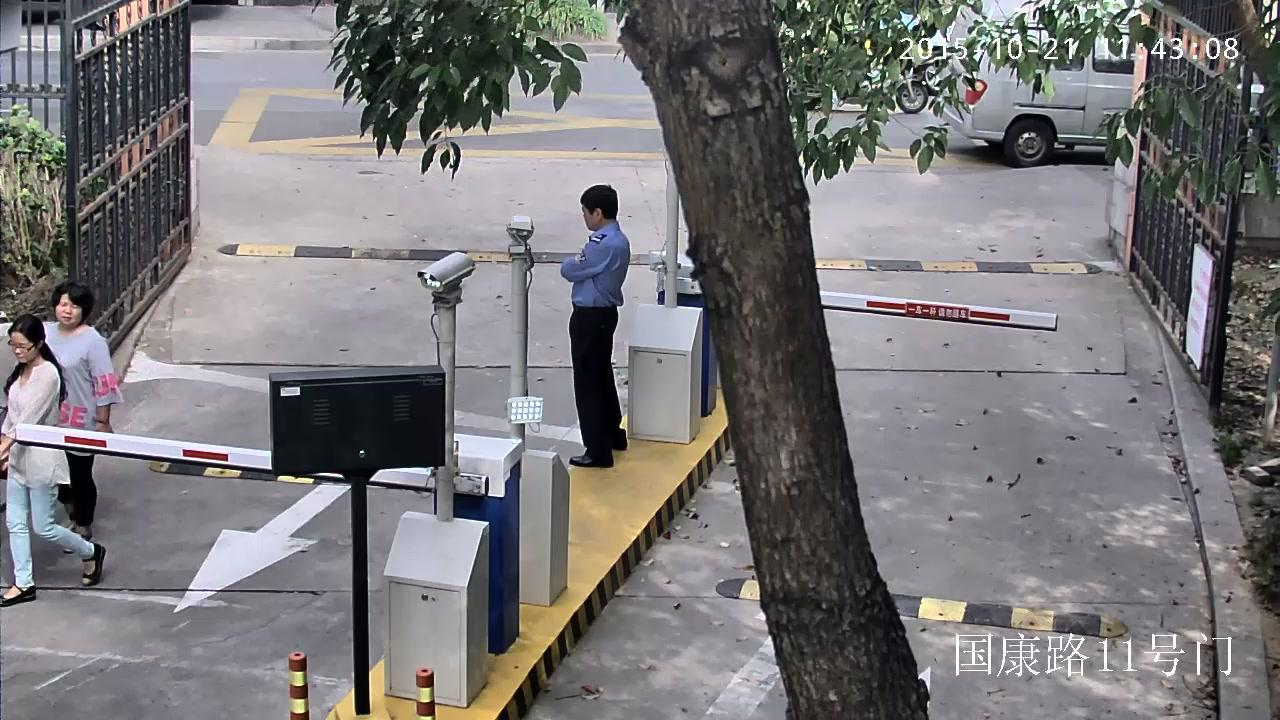person: (0, 313, 105, 605), (43, 279, 124, 554), (560, 183, 630, 466)
